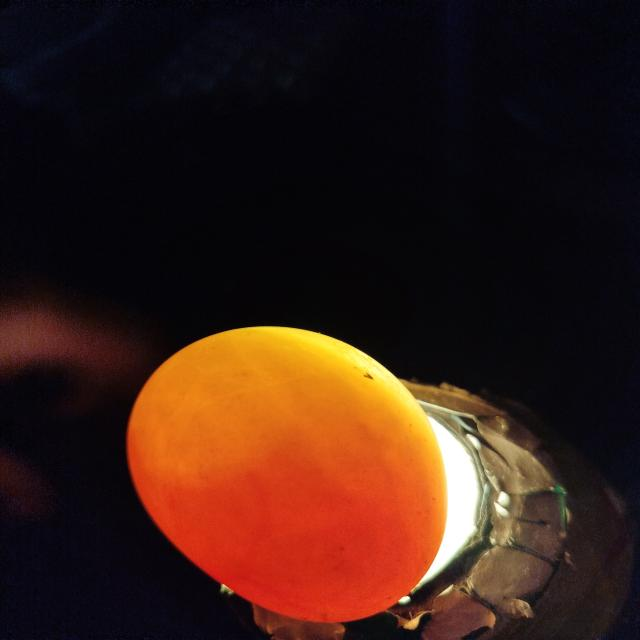Gema Quebrada: (127, 427, 432, 622)
